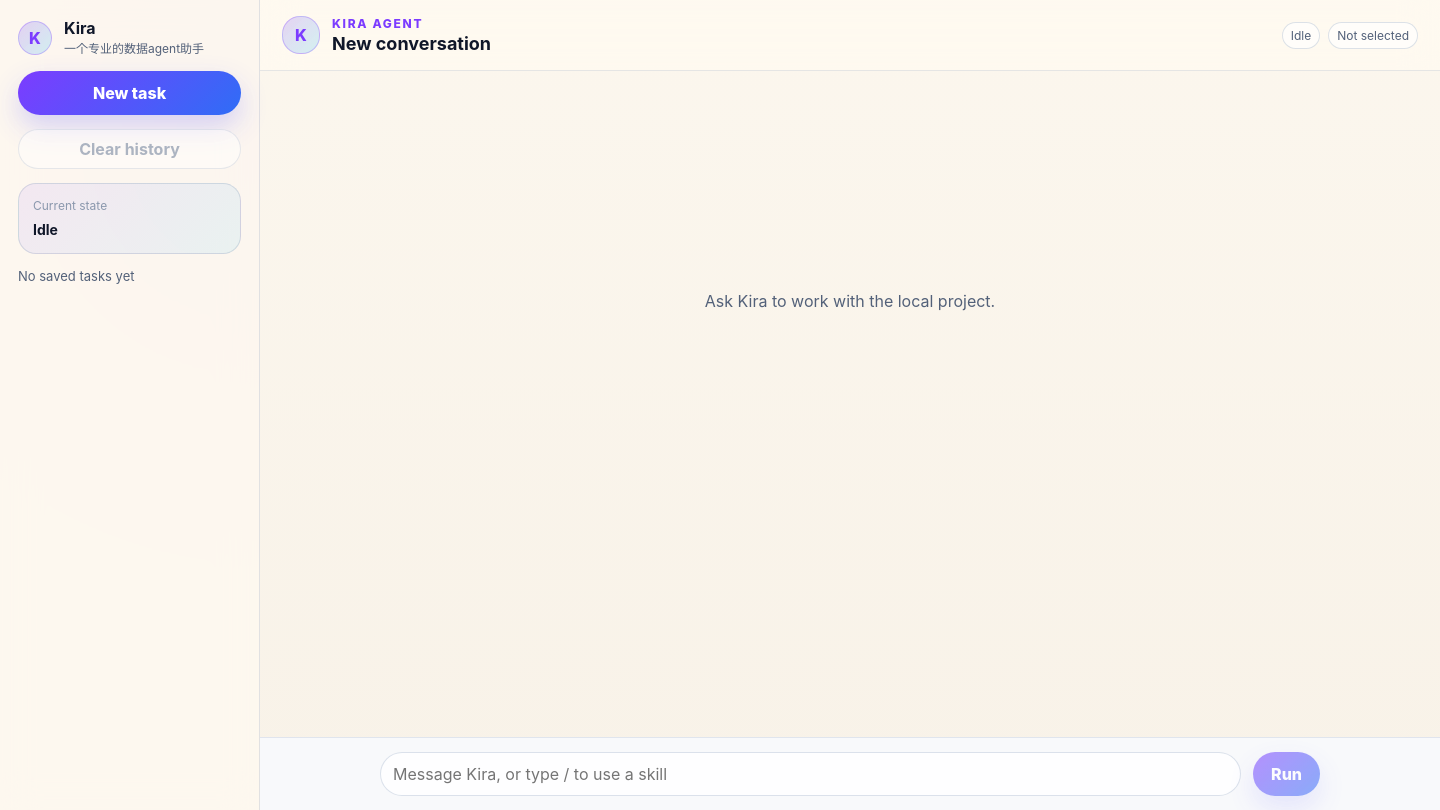
AgentWorkbench › keeps completed transcript visible when a follow-up run starts
This screenshot has width=1440, height=810.
Type "First question" into the field named "Prompt".
click(811, 774); type("First question")  # box left=380, top=752, right=1241, bottom=796
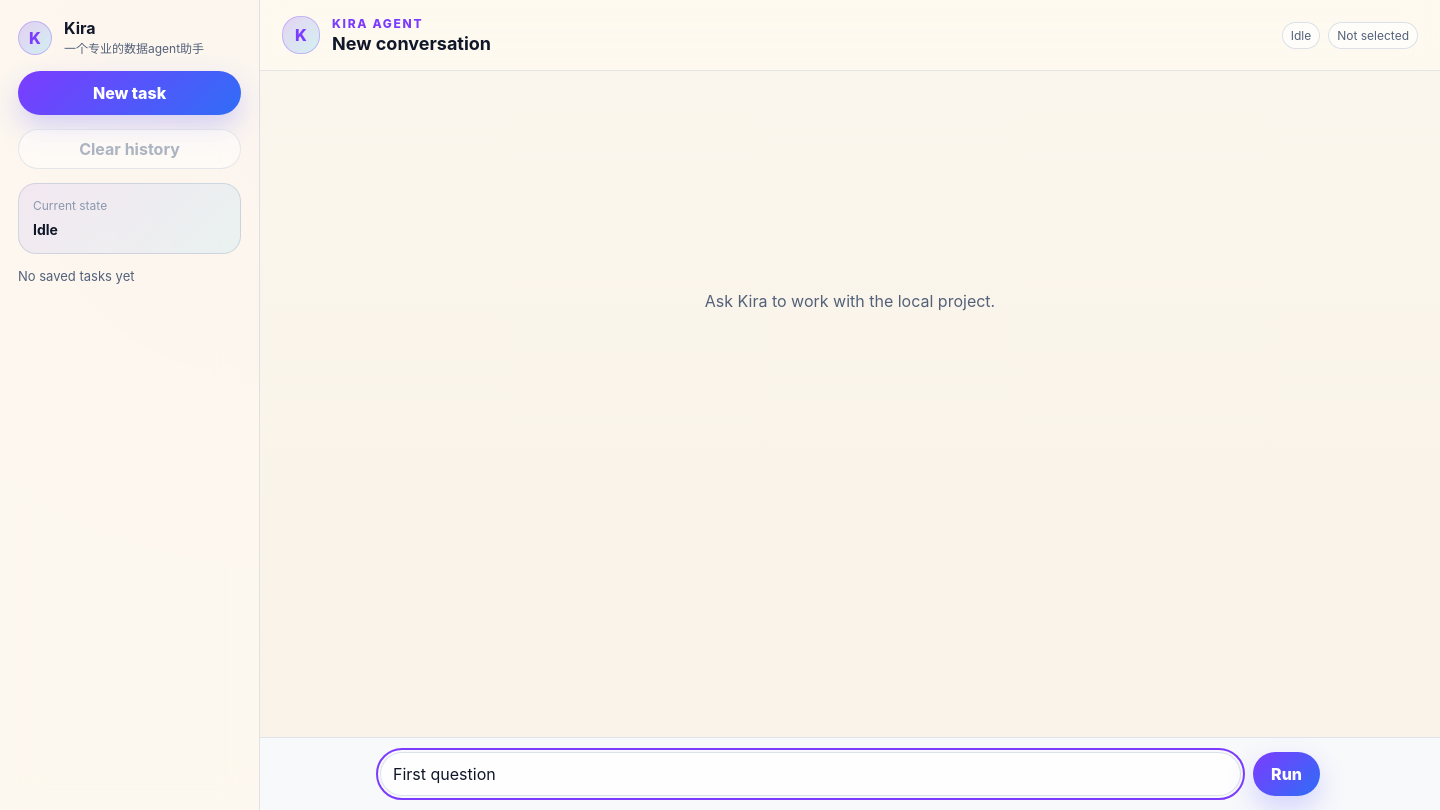
Click the button "Run".
click(1287, 774)  # box left=1253, top=752, right=1320, bottom=796
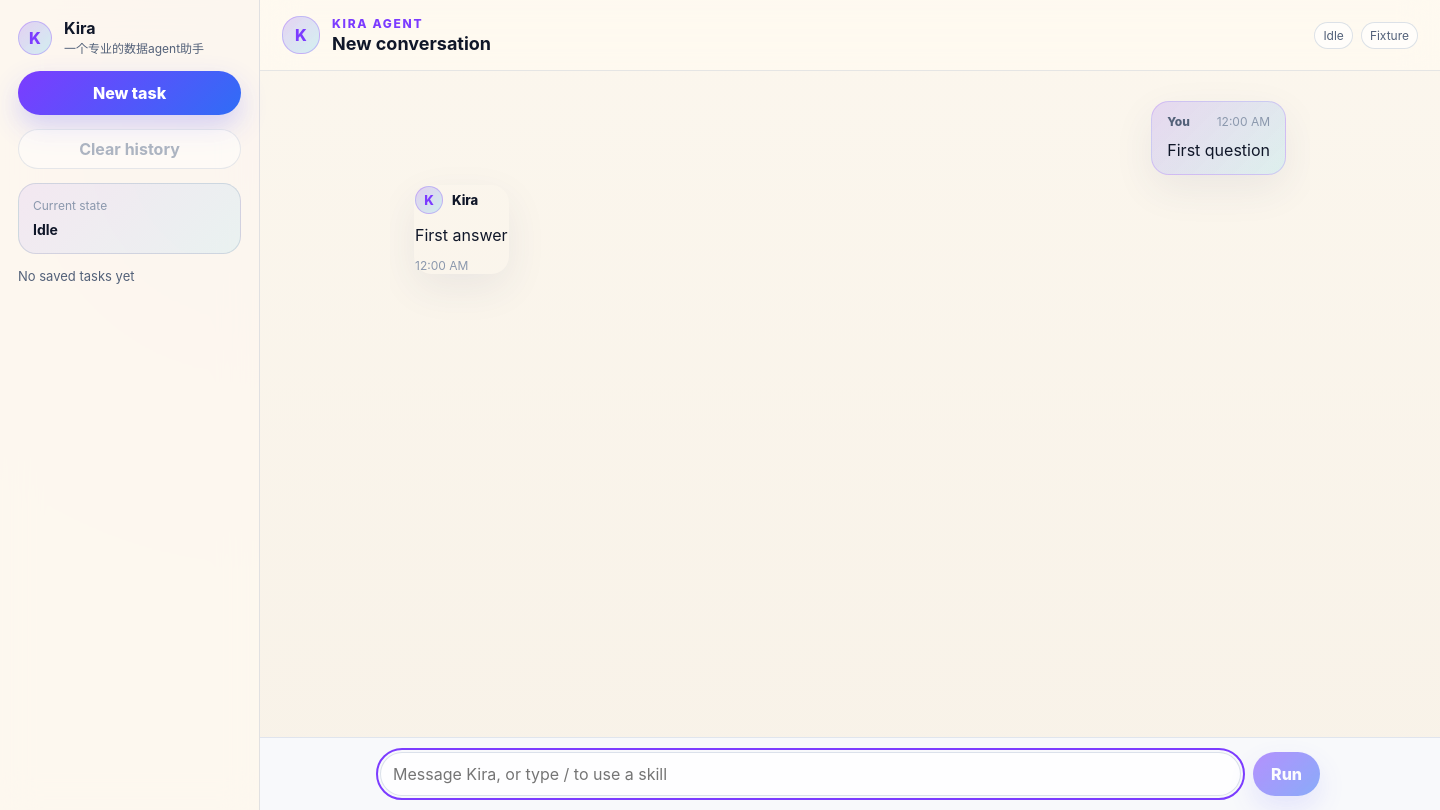
Now the element with test id "transcript-answer-row" shows "First answer", box left=415, top=225, right=508, bottom=245
Type "Second question" into the field named "Prompt".
click(811, 774); type("Second question")  # box left=380, top=752, right=1241, bottom=796
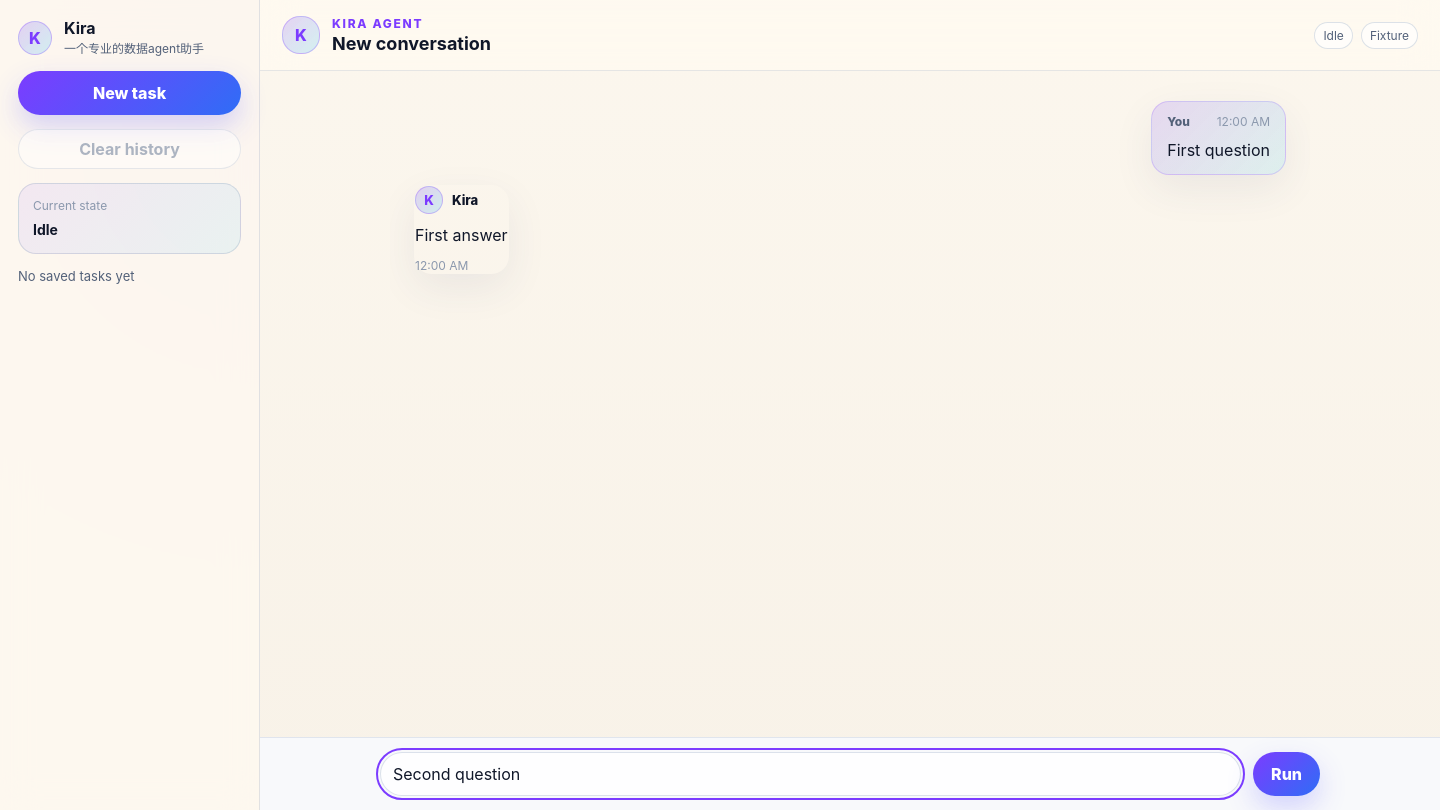
Click the button "Run".
click(1287, 774)  # box left=1253, top=752, right=1320, bottom=796
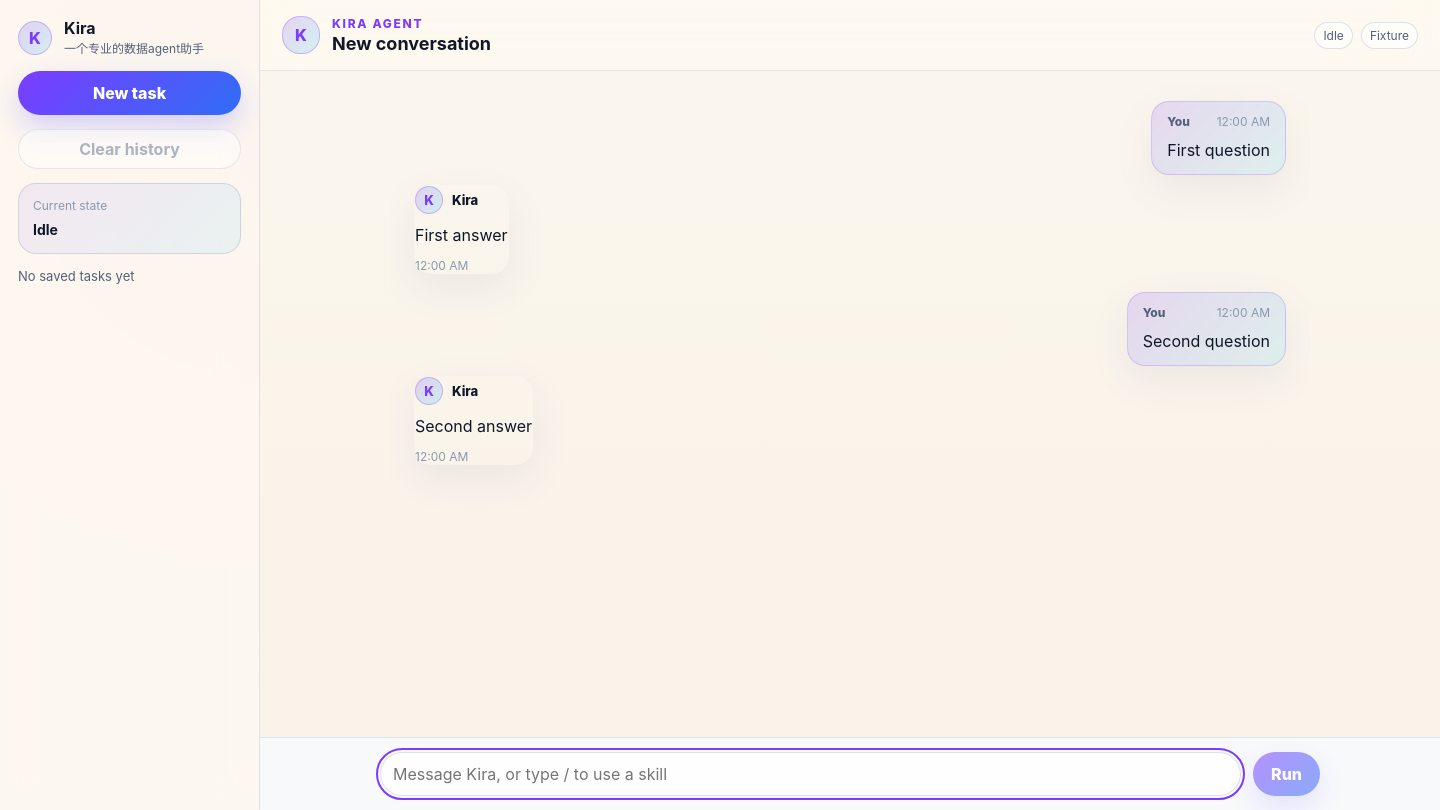
Now the text "First answer" is shown, box left=415, top=223, right=508, bottom=247
Now the text "Second answer" is shown, box left=415, top=414, right=532, bottom=438
